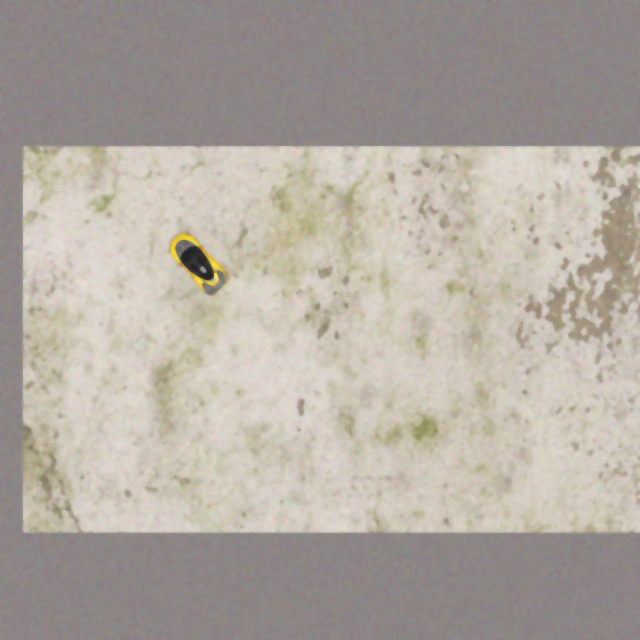car: (159, 224, 236, 301)
